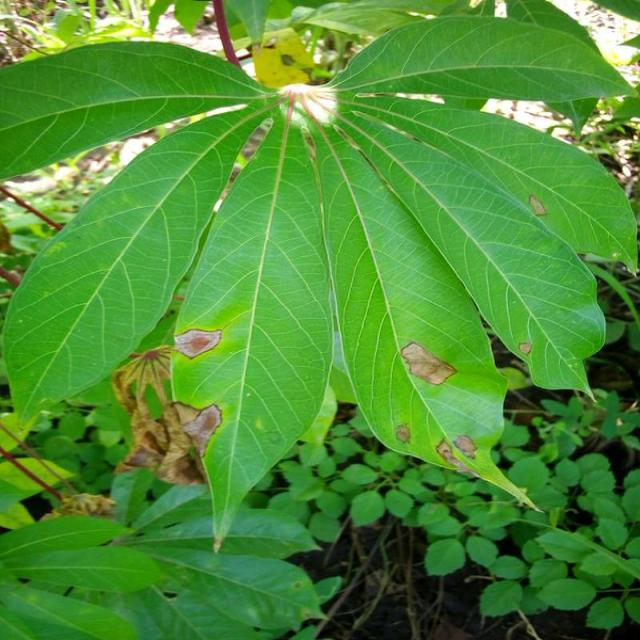cassava leaf: (1, 3, 638, 554), (2, 91, 278, 428), (169, 98, 335, 552)
